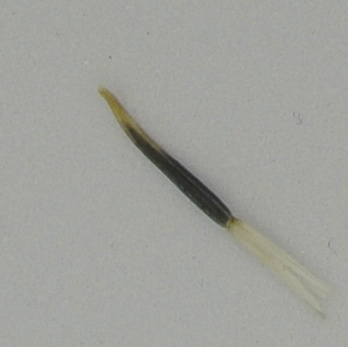เมล็ดดีเรียวยาว: (97, 84, 333, 324)
